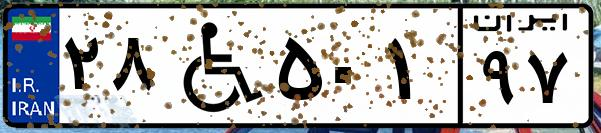0: (330, 28, 385, 110)
1: (385, 28, 445, 110)
2: (57, 26, 110, 100)
5: (270, 28, 330, 110)
7: (525, 38, 570, 115)
8: (110, 28, 158, 98)
9: (475, 38, 525, 113)
ژ (معلولین و جانبازان): (158, 12, 270, 120)
